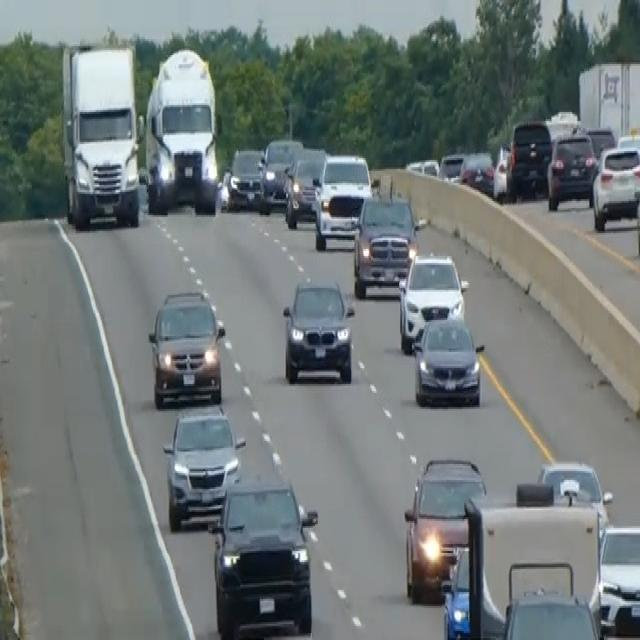car: (208, 473, 318, 638), (402, 455, 486, 601), (161, 402, 245, 530), (147, 286, 225, 407), (281, 276, 355, 384), (351, 187, 420, 297), (397, 249, 468, 352), (412, 313, 483, 407), (536, 457, 613, 540), (312, 151, 372, 249), (598, 523, 639, 638), (591, 142, 639, 231), (546, 130, 596, 210), (505, 117, 551, 199), (284, 148, 326, 228), (259, 135, 302, 210), (440, 544, 473, 638), (225, 144, 264, 210), (459, 150, 494, 196), (492, 142, 512, 201), (439, 150, 464, 182), (405, 156, 439, 178)
lorry: (60, 39, 143, 229), (143, 45, 221, 214)
truck: (442, 482, 603, 638)
